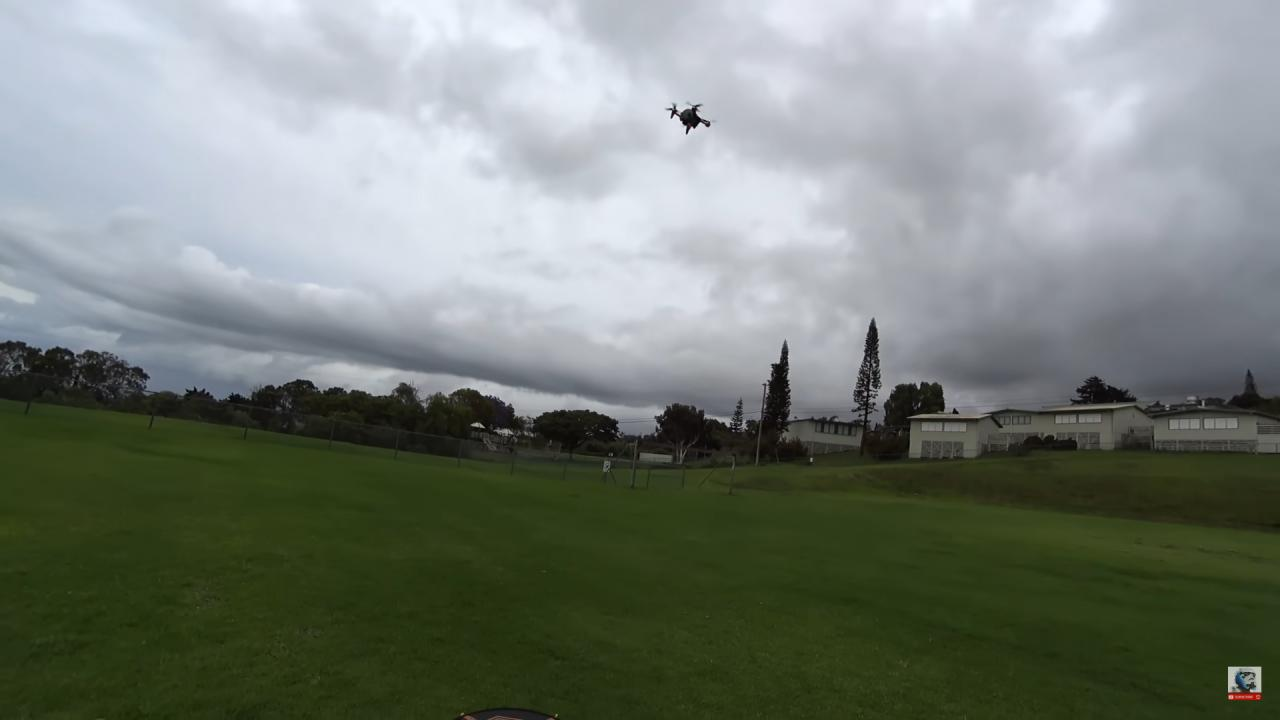Drone: (651, 86, 730, 150)
